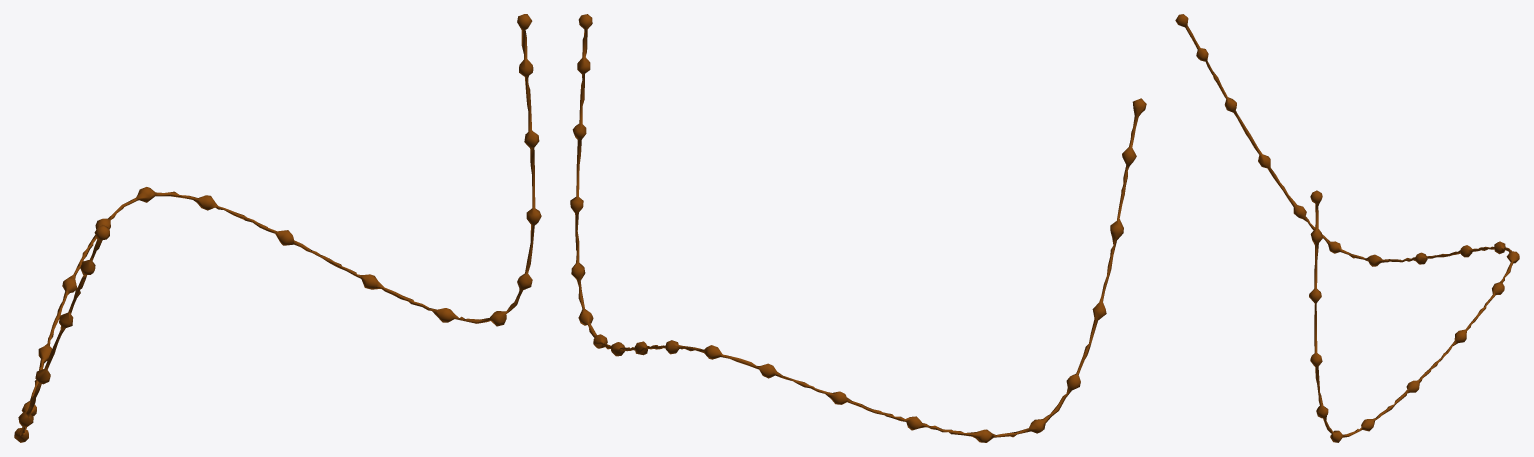
Rendered from daykinh.glb.
3 renders of one model, left to right at view 1: azimuth 30°, elevation 25°; view 2: azimuth 150°, elevation 25°; view 3: azimuth 270°, elevation 25°, orthographic. The views are drawn at different scales.
Visible parts, largest first — view 1: Day_Kinh; view 2: Day_Kinh; view 3: Day_Kinh.
Part boxes in pixels (<box>): Day_Kinh: <box>14,14,541,442</box>; Day_Kinh: <box>570,14,1146,442</box>; Day_Kinh: <box>1175,14,1519,442</box>.
Bounding box in the file's own units: 0.2366 × 0.1348 × 0.1631.
